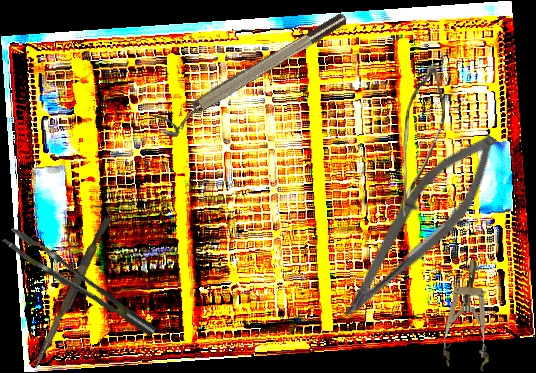Fixation Ring: (152, 8, 355, 143)
Micro Scissor: (329, 117, 513, 338), (396, 65, 446, 220)
Pusher: (32, 214, 112, 372)
Speculum: (441, 258, 498, 372)
Tissue Forceps: (1, 213, 158, 356)
